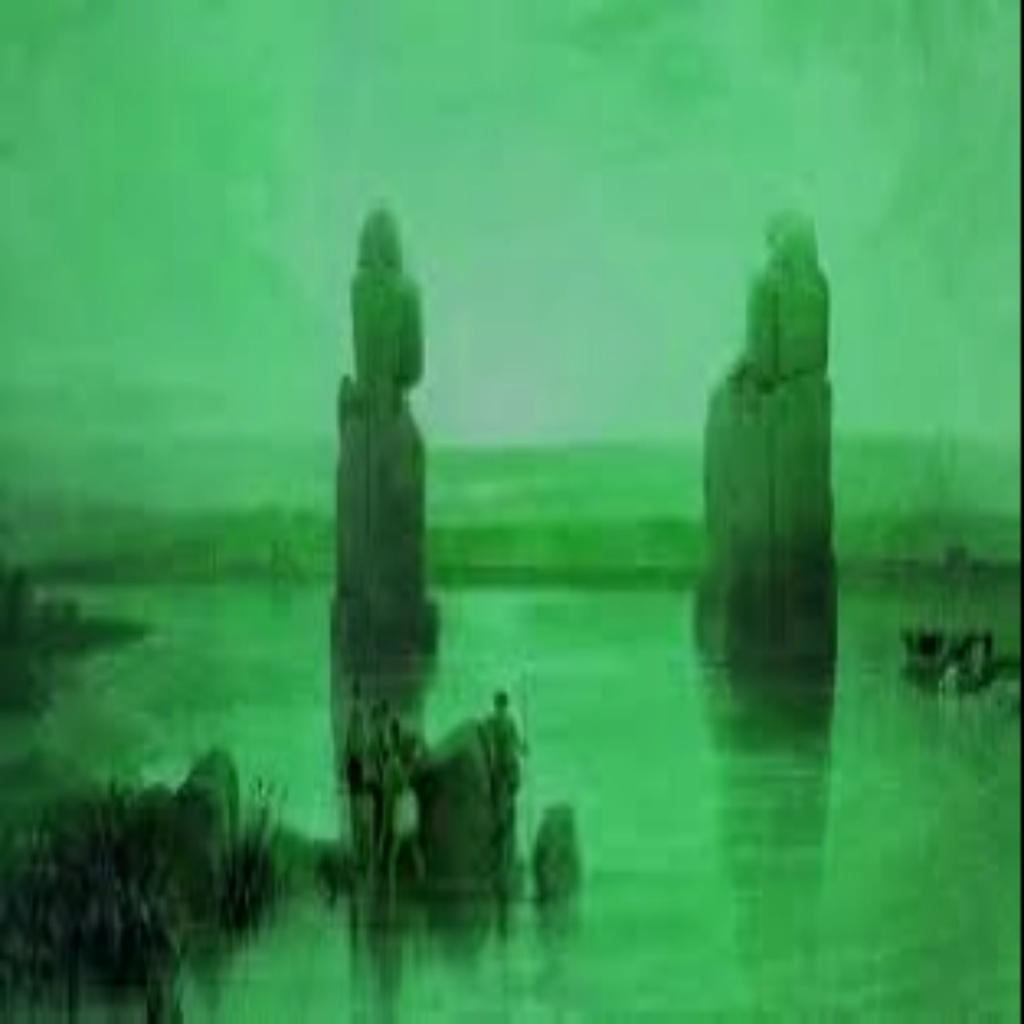Colossoi of Memnon: (687, 191, 841, 687), (327, 184, 442, 668)
